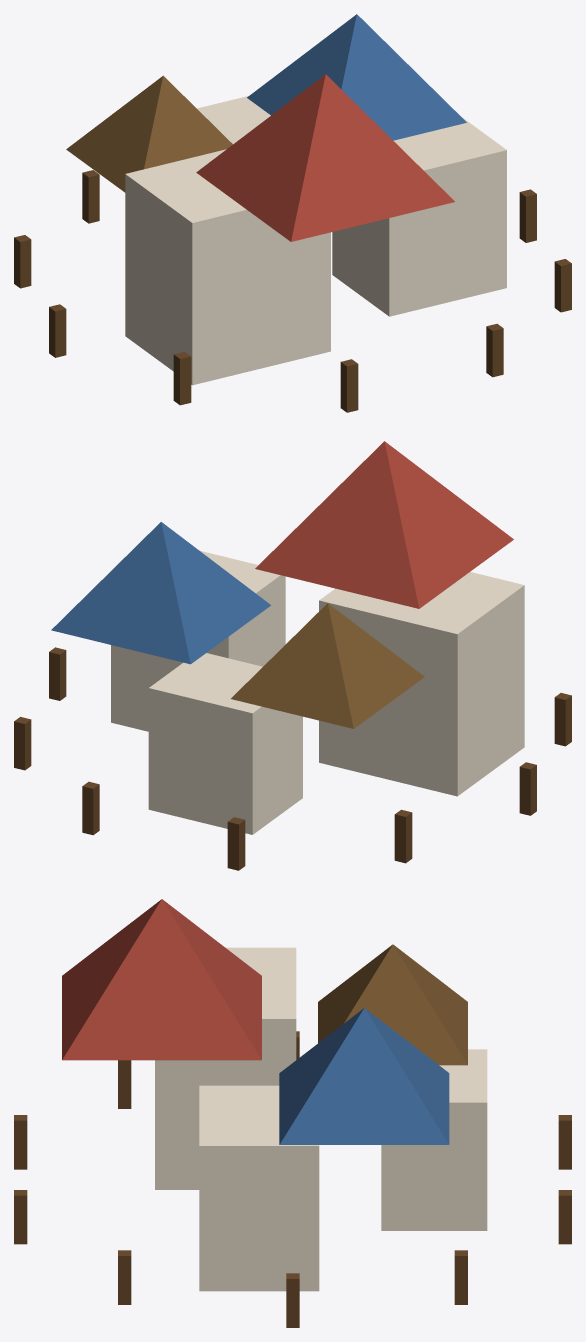
File: lm_village.glb
The picture shows the model from 3 angles, top to bottom: view 1: azimuth 30°, elevation 25°; view 2: azimuth 150°, elevation 25°; view 3: azimuth 270°, elevation 25°; orthographic projection. The views are drawn at different scales.
Visible parts, largest first — view 1: house, roof, house.001, roof.001, roof.002, house.002, fence.006, fence.007, fence.005, fence.008, fence.009, fence.003 (+2 smaller); view 2: house, roof, house.002, roof.001, roof.002, house.001, fence.003, fence.004, fence.002, fence.005, fence, fence.001 (+1 smaller); view 3: roof, house.001, roof.001, house.002, house, roof.002, fence, fence.001, fence.003, fence.007, fence.009, fence.002 (+2 smaller).
Boxes of the visible parts, left/top/right/bottom form: house: left=125, top=149, right=330, bottom=385; roof: left=196, top=74, right=454, bottom=241; house.001: left=332, top=117, right=506, bottom=316; roof.001: left=247, top=14, right=466, bottom=140; roof.002: left=66, top=75, right=232, bottom=192; house.002: left=197, top=96, right=270, bottom=144; fence.006: left=173, top=351, right=191, bottom=405; fence.007: left=340, top=359, right=358, bottom=412; fence.005: left=49, top=304, right=66, bottom=357; fence.008: left=486, top=323, right=503, bottom=377; fence.009: left=554, top=259, right=571, bottom=312; fence.003: left=82, top=170, right=99, bottom=223; house: left=319, top=572, right=524, bottom=796; roof: left=255, top=441, right=513, bottom=608; house.002: left=148, top=653, right=302, bottom=834; roof.001: left=51, top=522, right=271, bottom=664; roof.002: left=231, top=603, right=424, bottom=728; house.001: left=111, top=551, right=285, bottom=731; fence.003: left=227, top=817, right=245, bottom=870; fence.004: left=394, top=809, right=412, bottom=863; fence.002: left=82, top=781, right=99, bottom=835; fence.005: left=519, top=762, right=536, bottom=815; fence: left=49, top=647, right=66, bottom=700; fence.001: left=14, top=717, right=31, bottom=770; roof: left=62, top=899, right=261, bottom=1060; house.001: left=199, top=1085, right=319, bottom=1291; roof.001: left=279, top=1008, right=449, bottom=1144; house.002: left=381, top=1049, right=487, bottom=1230; house: left=155, top=947, right=296, bottom=1189; roof.002: left=318, top=944, right=467, bottom=1065; fence: left=286, top=1273, right=299, bottom=1327; fence.001: left=454, top=1250, right=467, bottom=1304; fence.003: left=558, top=1115, right=571, bottom=1169; fence.007: left=14, top=1115, right=27, bottom=1169; fence.009: left=118, top=1250, right=131, bottom=1304; fence.002: left=558, top=1190, right=571, bottom=1244.
Size of the model in its own units: 1.74 by 0.95 by 1.66.
